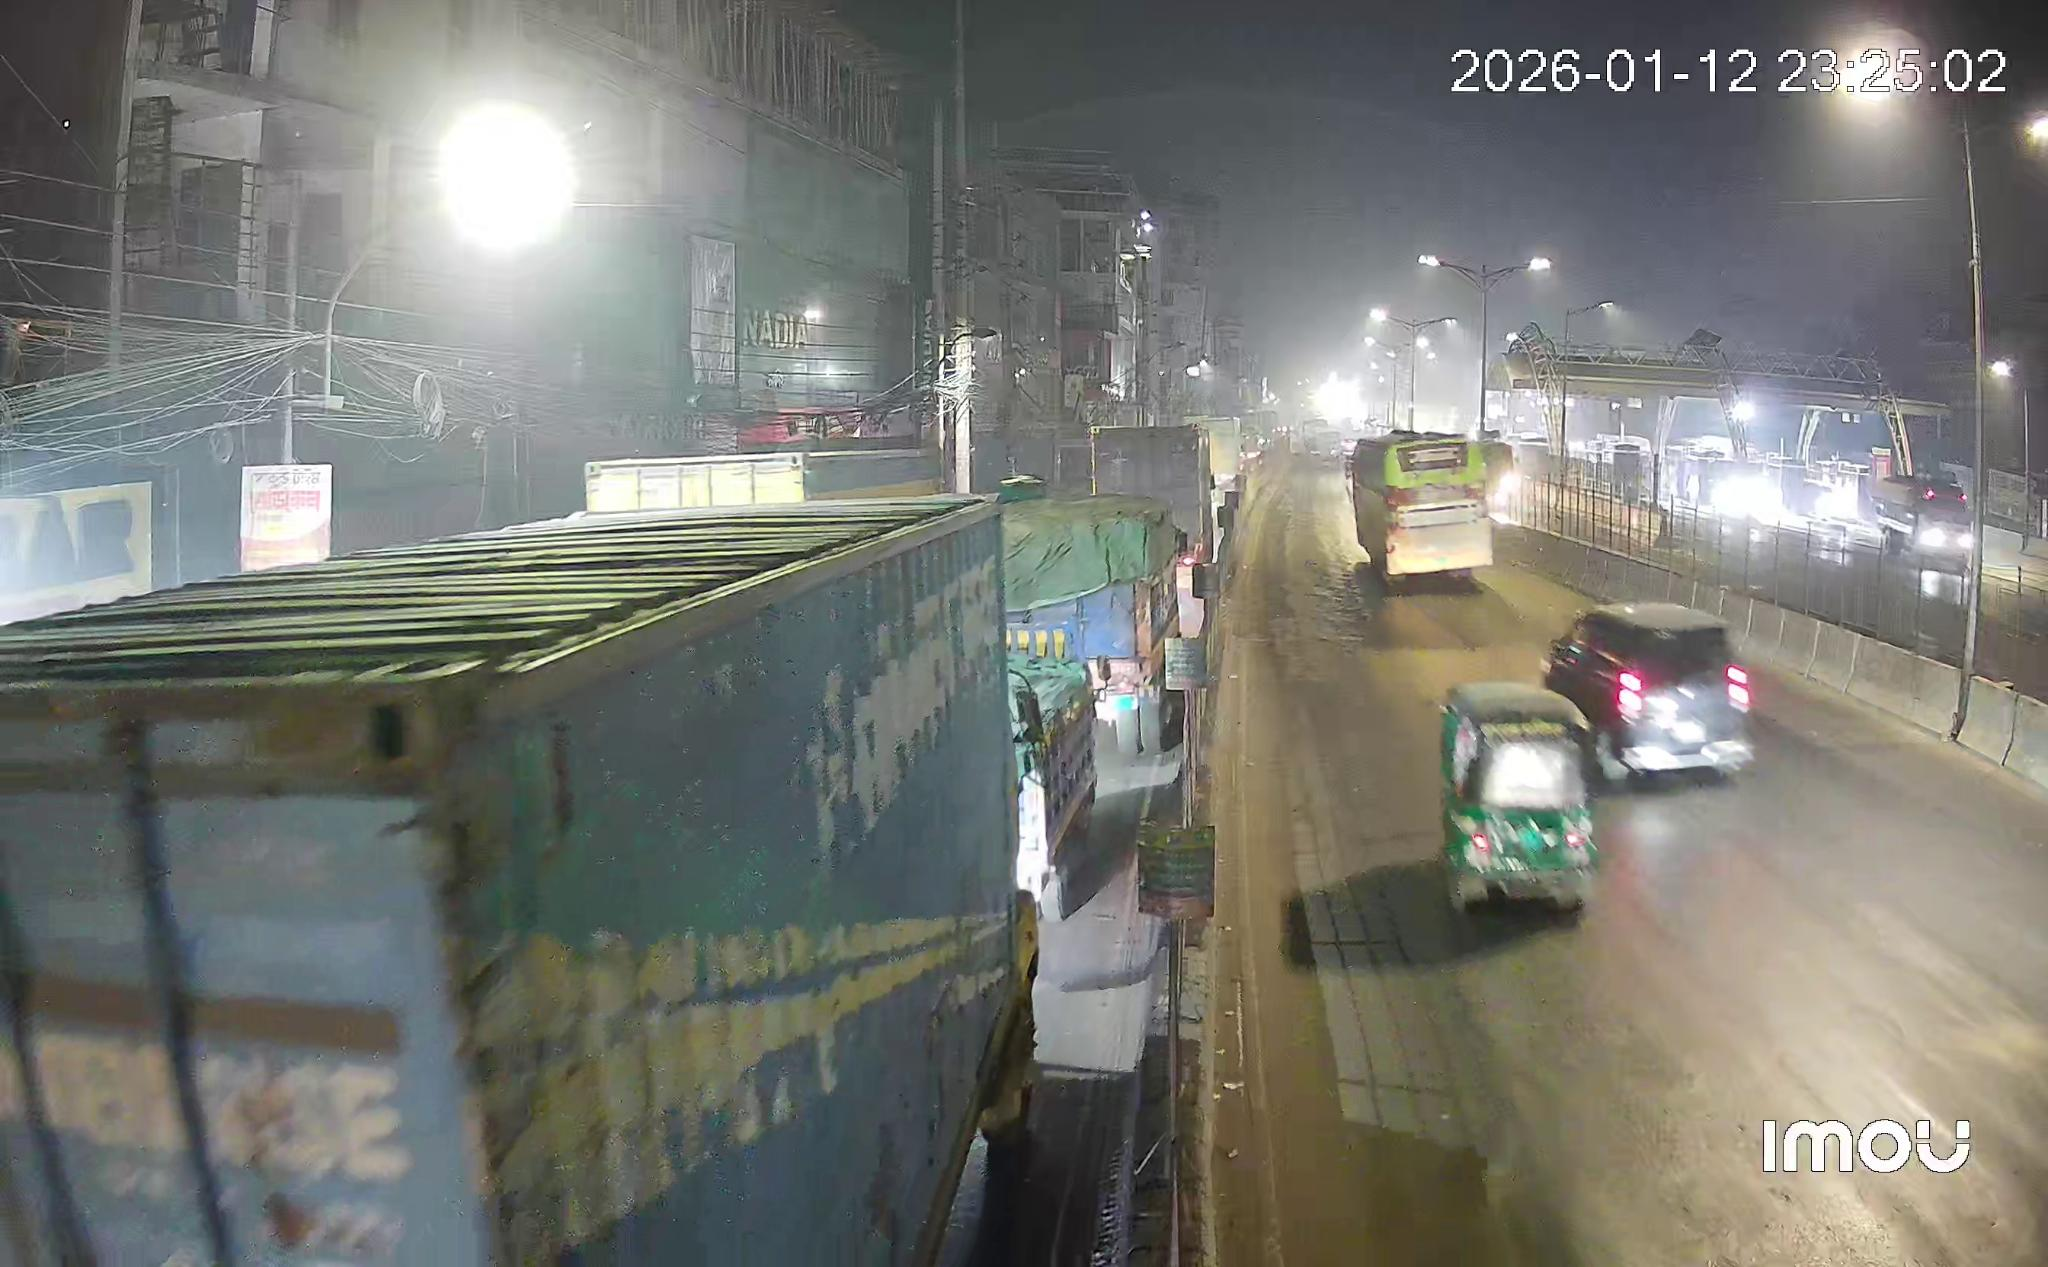Bus: (1347, 432, 1494, 588)
CNG-Tempo: (1441, 682, 1600, 910)
Jeep-SUV: (1540, 601, 1754, 780)
Truck: (0, 497, 1036, 1267), (1002, 495, 1182, 755), (1091, 424, 1216, 560), (1872, 473, 1975, 571)
